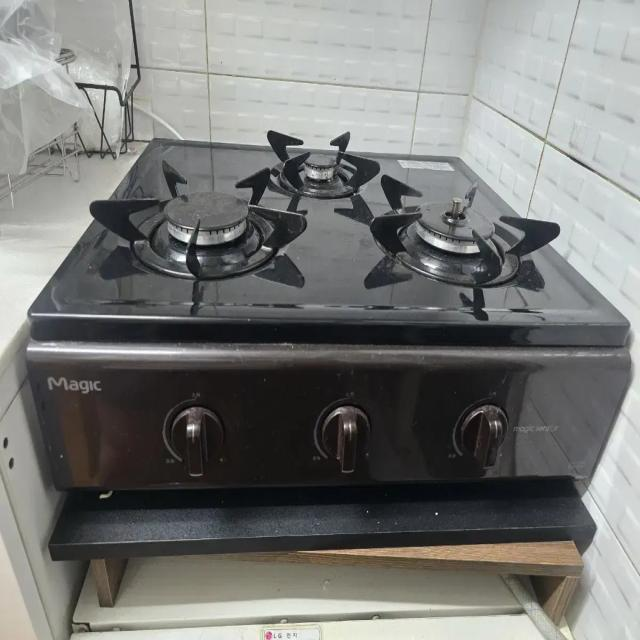knob_ON: (113, 115, 558, 306)
